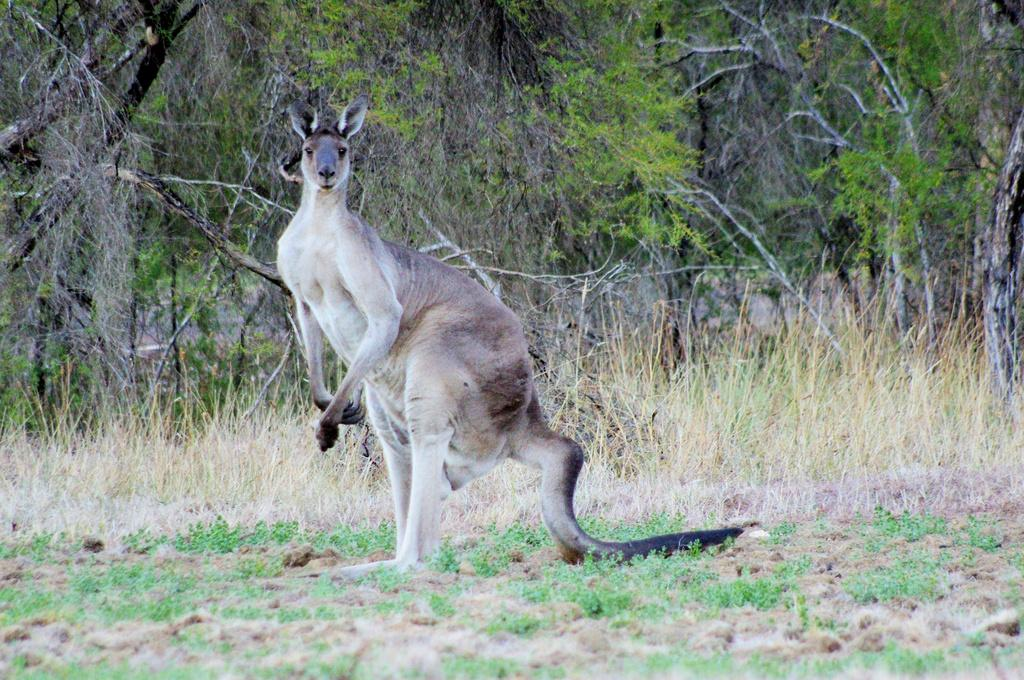kangaroo: (274, 108, 737, 562)
